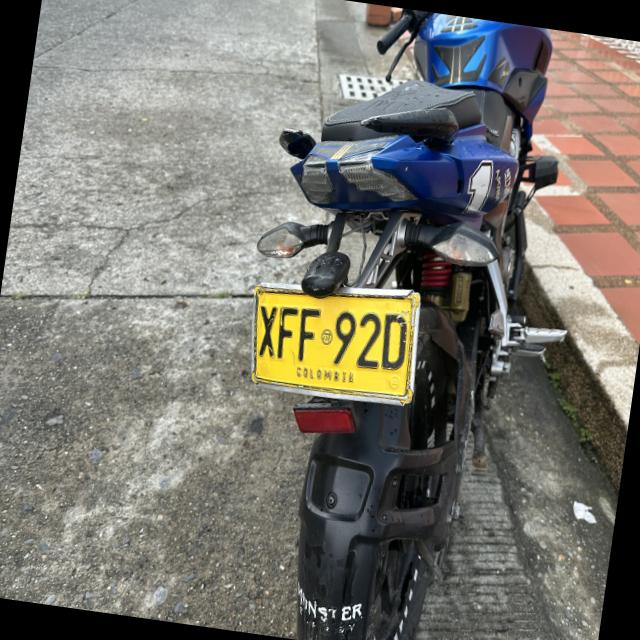number plate: (252, 285, 420, 404)
